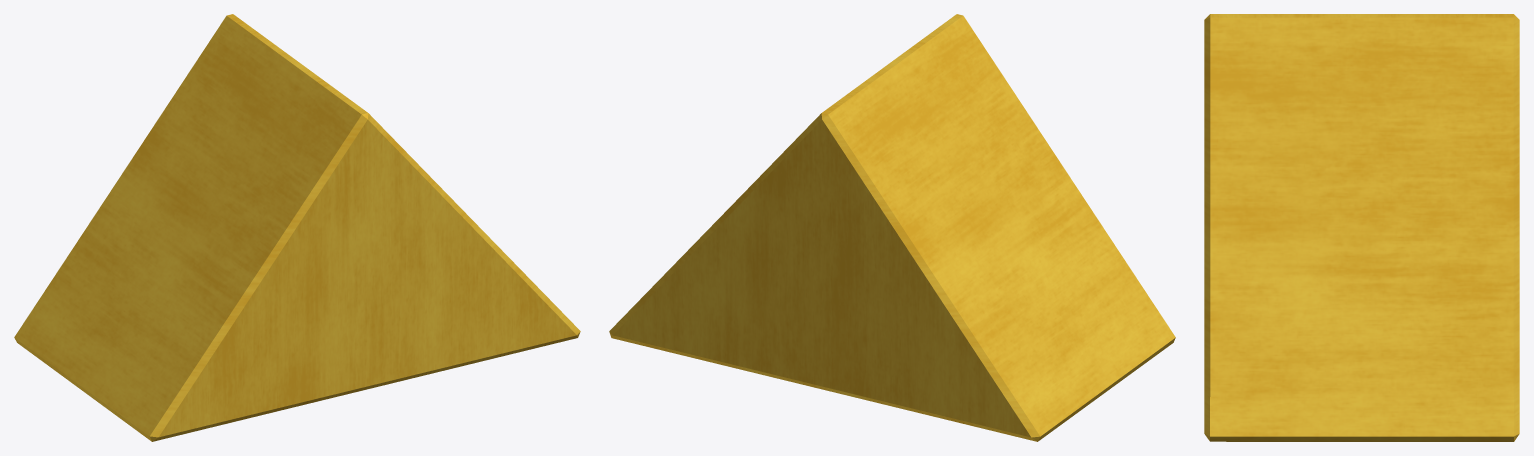
File: houseblock3-2.fbx
The picture shows the model from 3 angles, left to right: view 1: azimuth 30°, elevation 25°; view 2: azimuth 150°, elevation 25°; view 3: azimuth 270°, elevation 25°; orthographic projection. The views are drawn at different scales.
Parts seen in each view (by area): view 1: houseblock3; view 2: houseblock3; view 3: houseblock3.
Part boxes in pixels (x1,y1,x2,y2): houseblock3: (14, 14, 580, 441); houseblock3: (609, 14, 1175, 441); houseblock3: (1204, 14, 1519, 441).
Bounding box in the file's own units: 1.74 × 1.07 × 0.9853.
